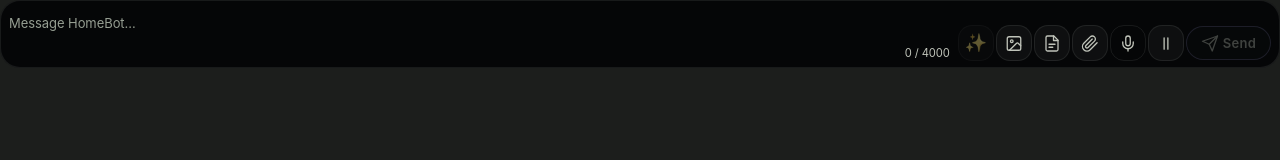
InputBox — character counter › counter updates as user types
This screenshot has width=1280, height=160.
Type "Hello" into the text box with placeholder "Message HomeBot...".
click(453, 34); type("Hello")  # box x1=9 y1=5 x2=897 y2=63
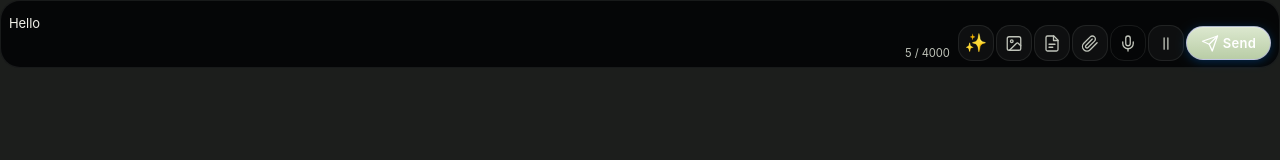
Expected: the text with class "char-counter" reads "5 / 4000", x1=905 y1=46 x2=950 y2=60
